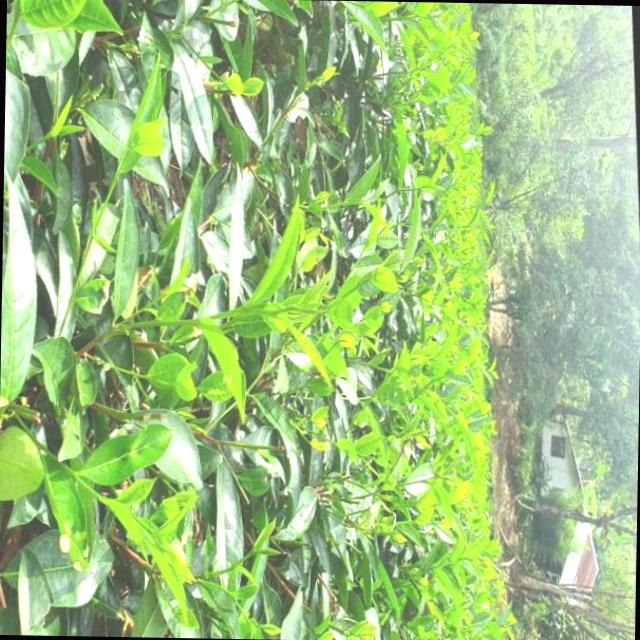Stem: (108, 174, 118, 192), (253, 307, 272, 316), (87, 486, 99, 498), (240, 550, 251, 562), (344, 0, 360, 6), (219, 586, 229, 594), (37, 135, 45, 143), (419, 184, 425, 189)
